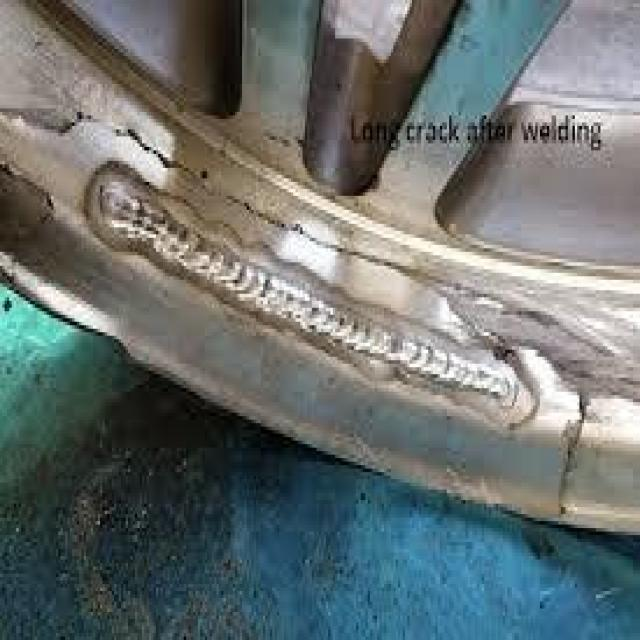Dry Waste: (40, 66, 618, 502)
